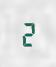two: (19, 20, 35, 46)
